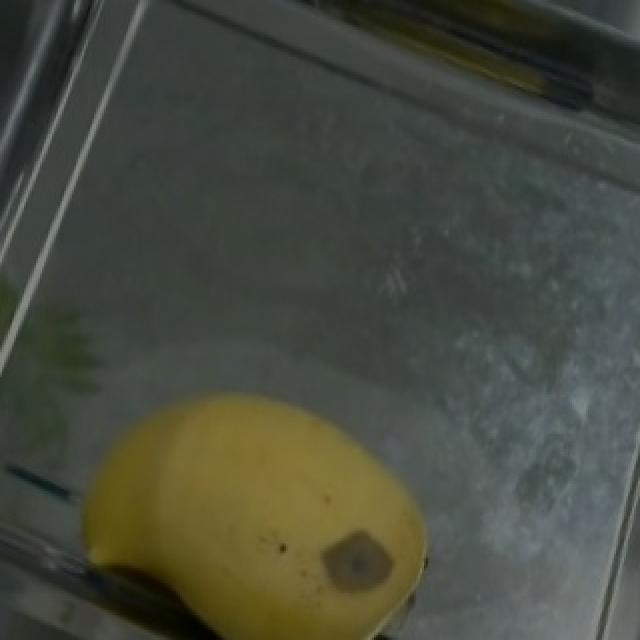fruit: (40, 332, 466, 640)
